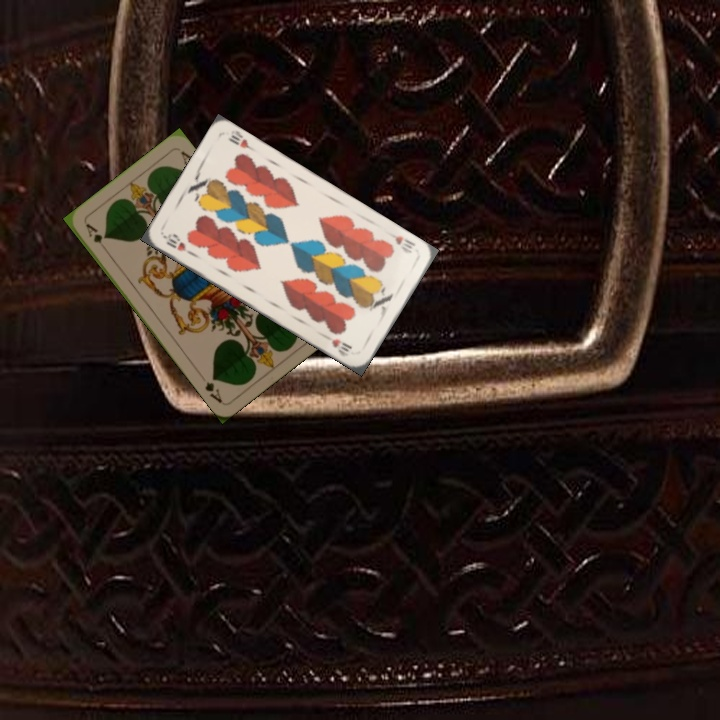GA: (82, 219, 110, 253)
H10: (160, 230, 197, 258), (383, 228, 418, 256)
